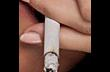Cigarette: (43, 7, 60, 72)
